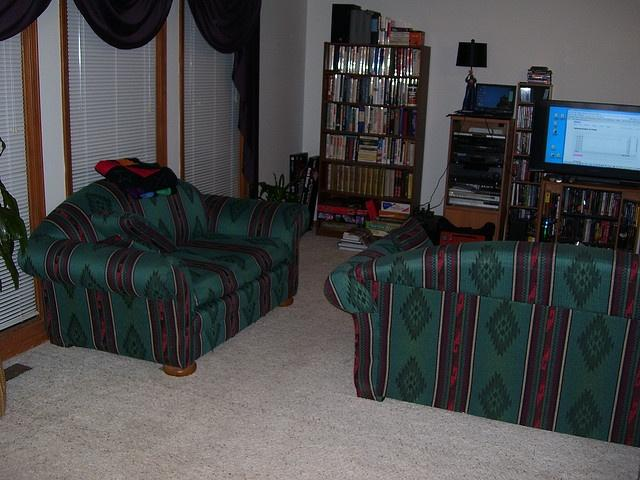AIO PC-Monitor-TV: (530, 98, 639, 186)
Rak: (314, 41, 423, 240)
